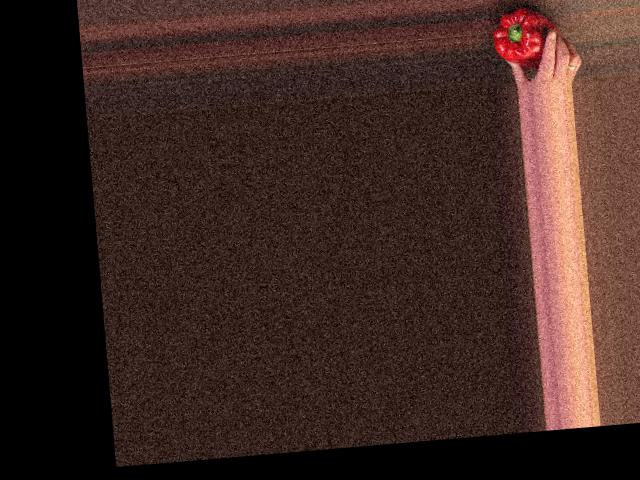bell_pepper: (489, 4, 556, 68)
